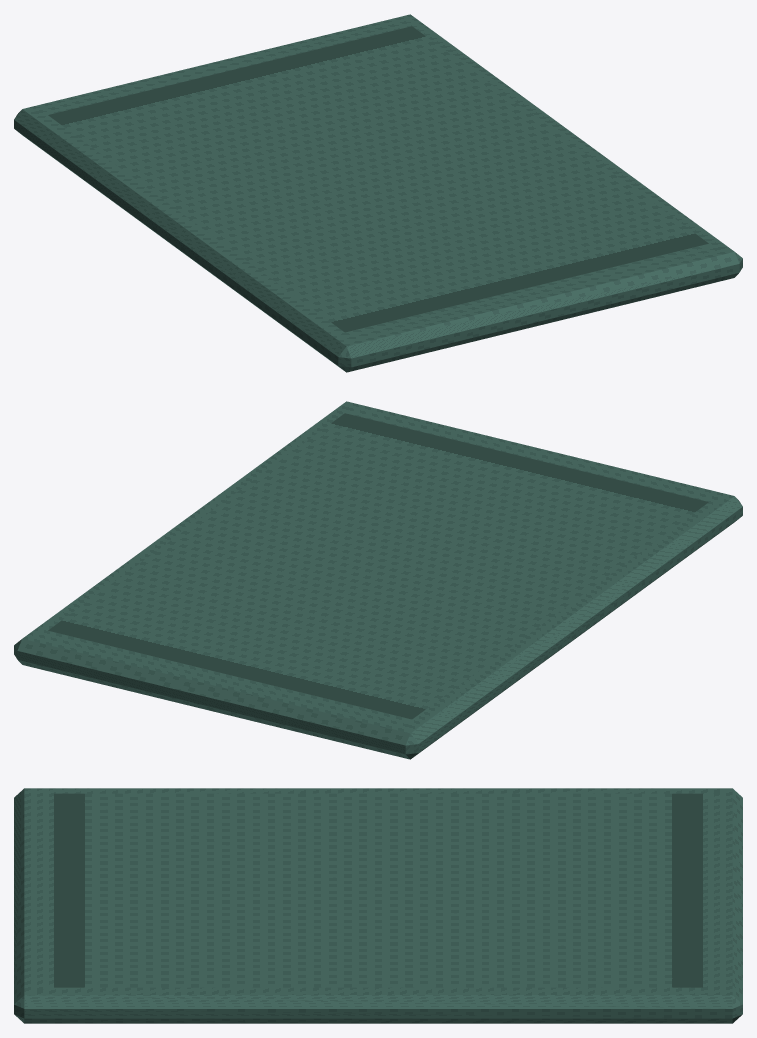
The model's file is headscarf.glb.
The picture shows the model from 3 angles, top to bottom: view 1: azimuth 30°, elevation 25°; view 2: azimuth 150°, elevation 25°; view 3: azimuth 270°, elevation 25°; orthographic projection. The views are drawn at different scales.
Visible parts, largest first — view 1: block_hem or woven pattern, block_folded textile; view 2: block_hem or woven pattern, block_folded textile; view 3: block_hem or woven pattern, block_folded textile.
Boxes of the visible parts, <box> form: block_hem or woven pattern: <box>48,26,708,332</box>; block_folded textile: <box>14,14,742,372</box>; block_hem or woven pattern: <box>48,413,708,719</box>; block_folded textile: <box>14,401,742,759</box>; block_hem or woven pattern: <box>54,793,702,987</box>; block_folded textile: <box>14,788,742,1023</box>.
Size of the model in its own units: 0.21 by 0.0135 by 0.3.
1 material, 1 textured.
